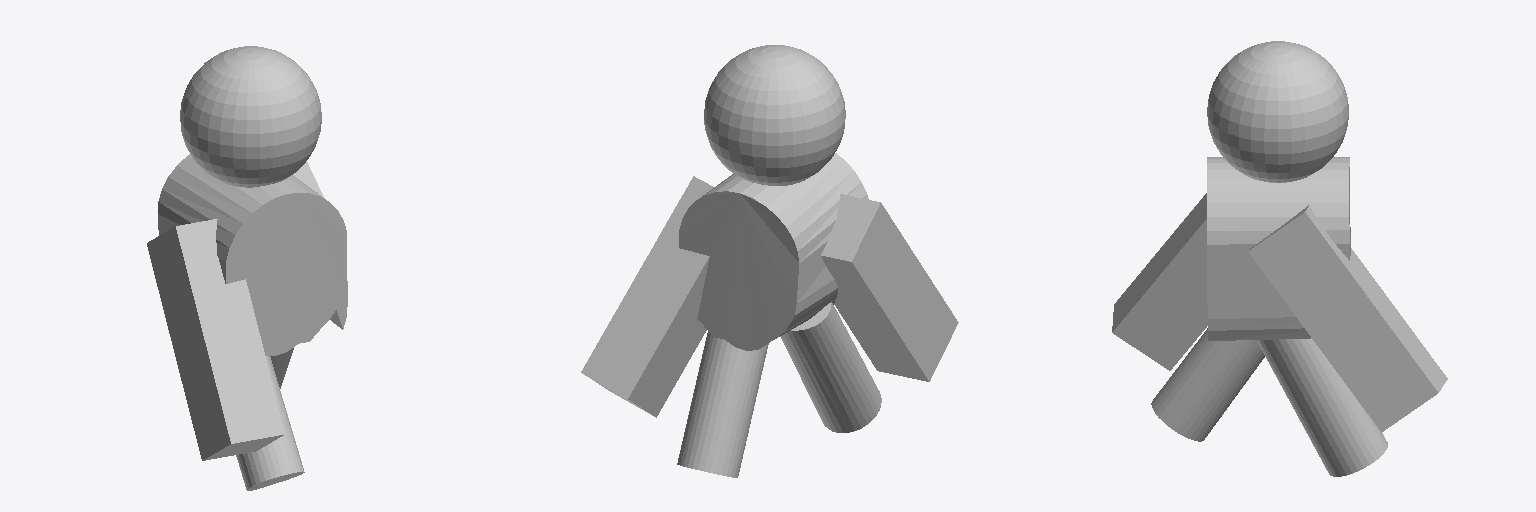
File: Figurine110.obj
The picture shows the model from 3 angles: view 1: azimuth 30°, elevation 25°; view 2: azimuth 150°, elevation 25°; view 3: azimuth 270°, elevation 25°; orthographic projection.
Parts seen in each view (by area): view 1: Cylinder; view 2: Cylinder; view 3: Cylinder.
Part boxes in pixels (bbox=[...]): Cylinder: bbox=[147, 46, 347, 490]; Cylinder: bbox=[581, 45, 958, 477]; Cylinder: bbox=[1112, 41, 1447, 476].
Bounding box in the file's own units: 3.49 × 6.37 × 4.72.